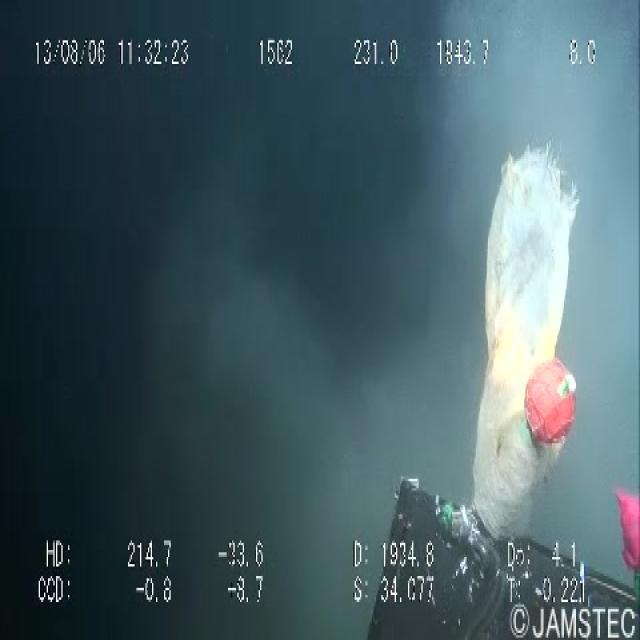plastic: (455, 130, 589, 552)
